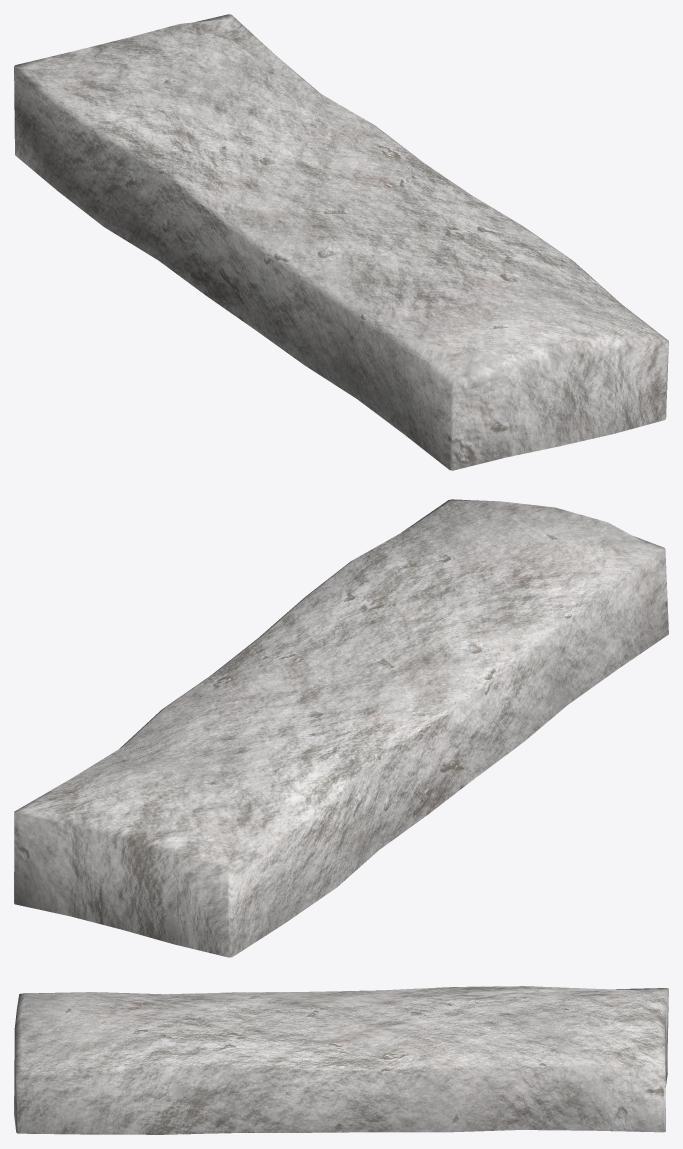
Rendered from step1_LOD0.FBX.
3 renders of one model, top to bottom at view 1: azimuth 30°, elevation 25°; view 2: azimuth 150°, elevation 25°; view 3: azimuth 270°, elevation 25°, orthographic. The views are drawn at different scales.
Parts seen in each view (by area): view 1: step1_LOD0; view 2: step1_LOD0; view 3: step1_LOD0.
Boxes of the visible parts, <box> form: step1_LOD0: <box>14,14,668,470</box>; step1_LOD0: <box>14,499,668,957</box>; step1_LOD0: <box>14,986,668,1134</box>.
Size of the model in its own units: 52.35 by 22.49 by 173.
